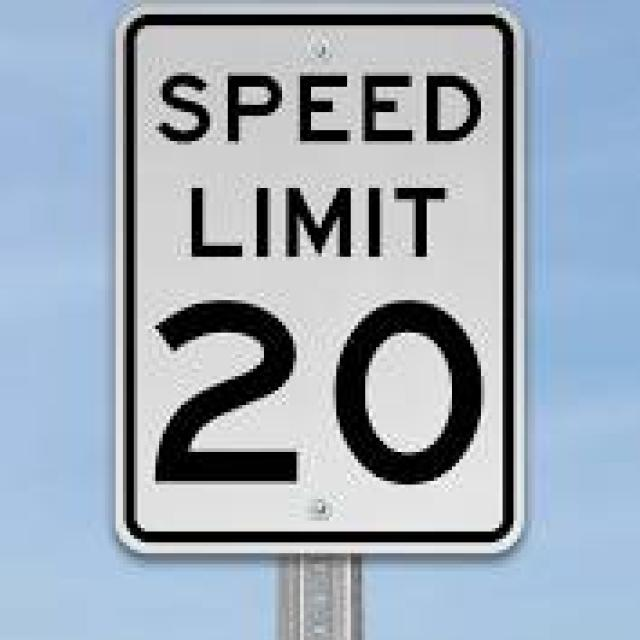speedLimit20: (112, 18, 521, 557)
